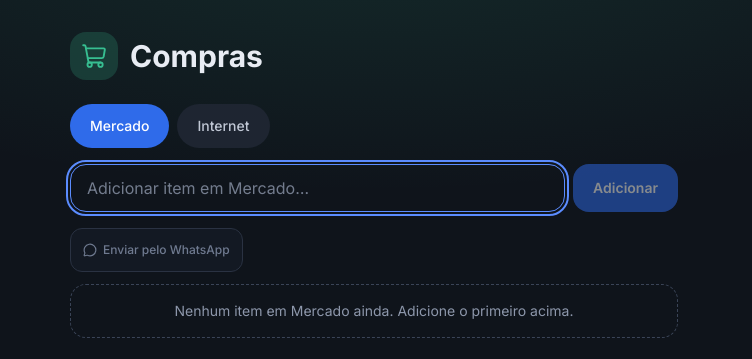
Test: ComprasPage › adiciona um item, limpa e mantém o foco no campo
This screenshot has width=752, height=359.
Step 1. Type "Leite" into the field labelled "Adicionar item em Mercado…" → point(318, 188), box 70,164 -> 565,212
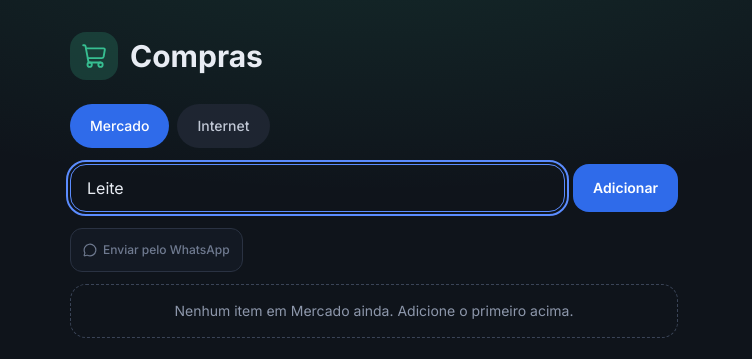
Step 2. Click the button "Adicionar" → point(626, 188), box 573,164 -> 678,212
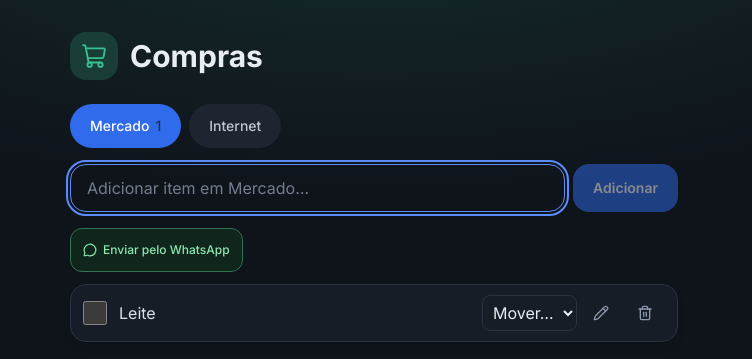
Expected: the text "Leite" is shown, 119,303 -> 156,323
Expected: the field labelled "Adicionar item em Mercado…" is empty, 70,164 -> 565,212
